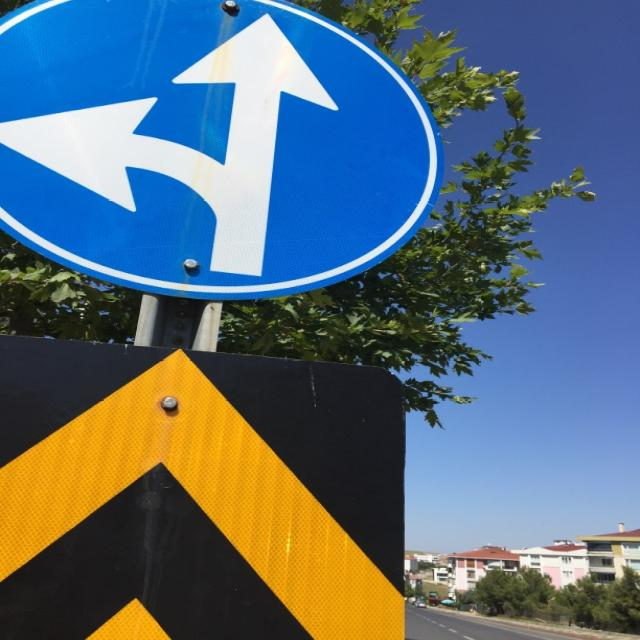ilerisol: (1, 2, 446, 302)
